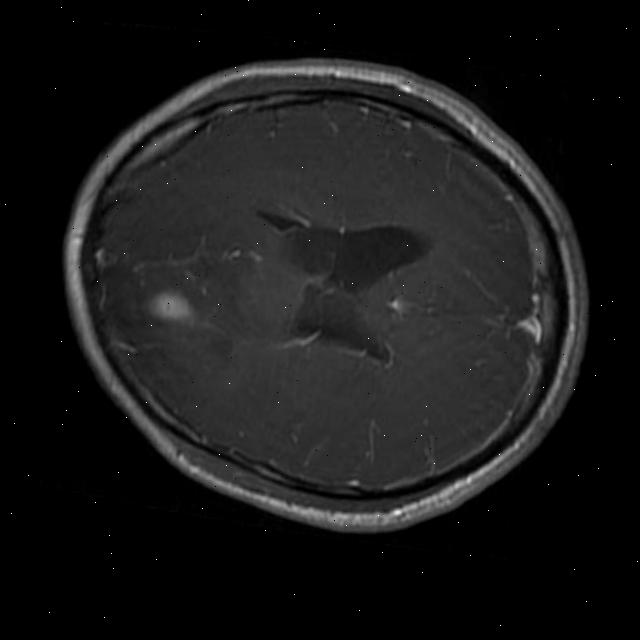Glioma: (140, 284, 201, 329)
